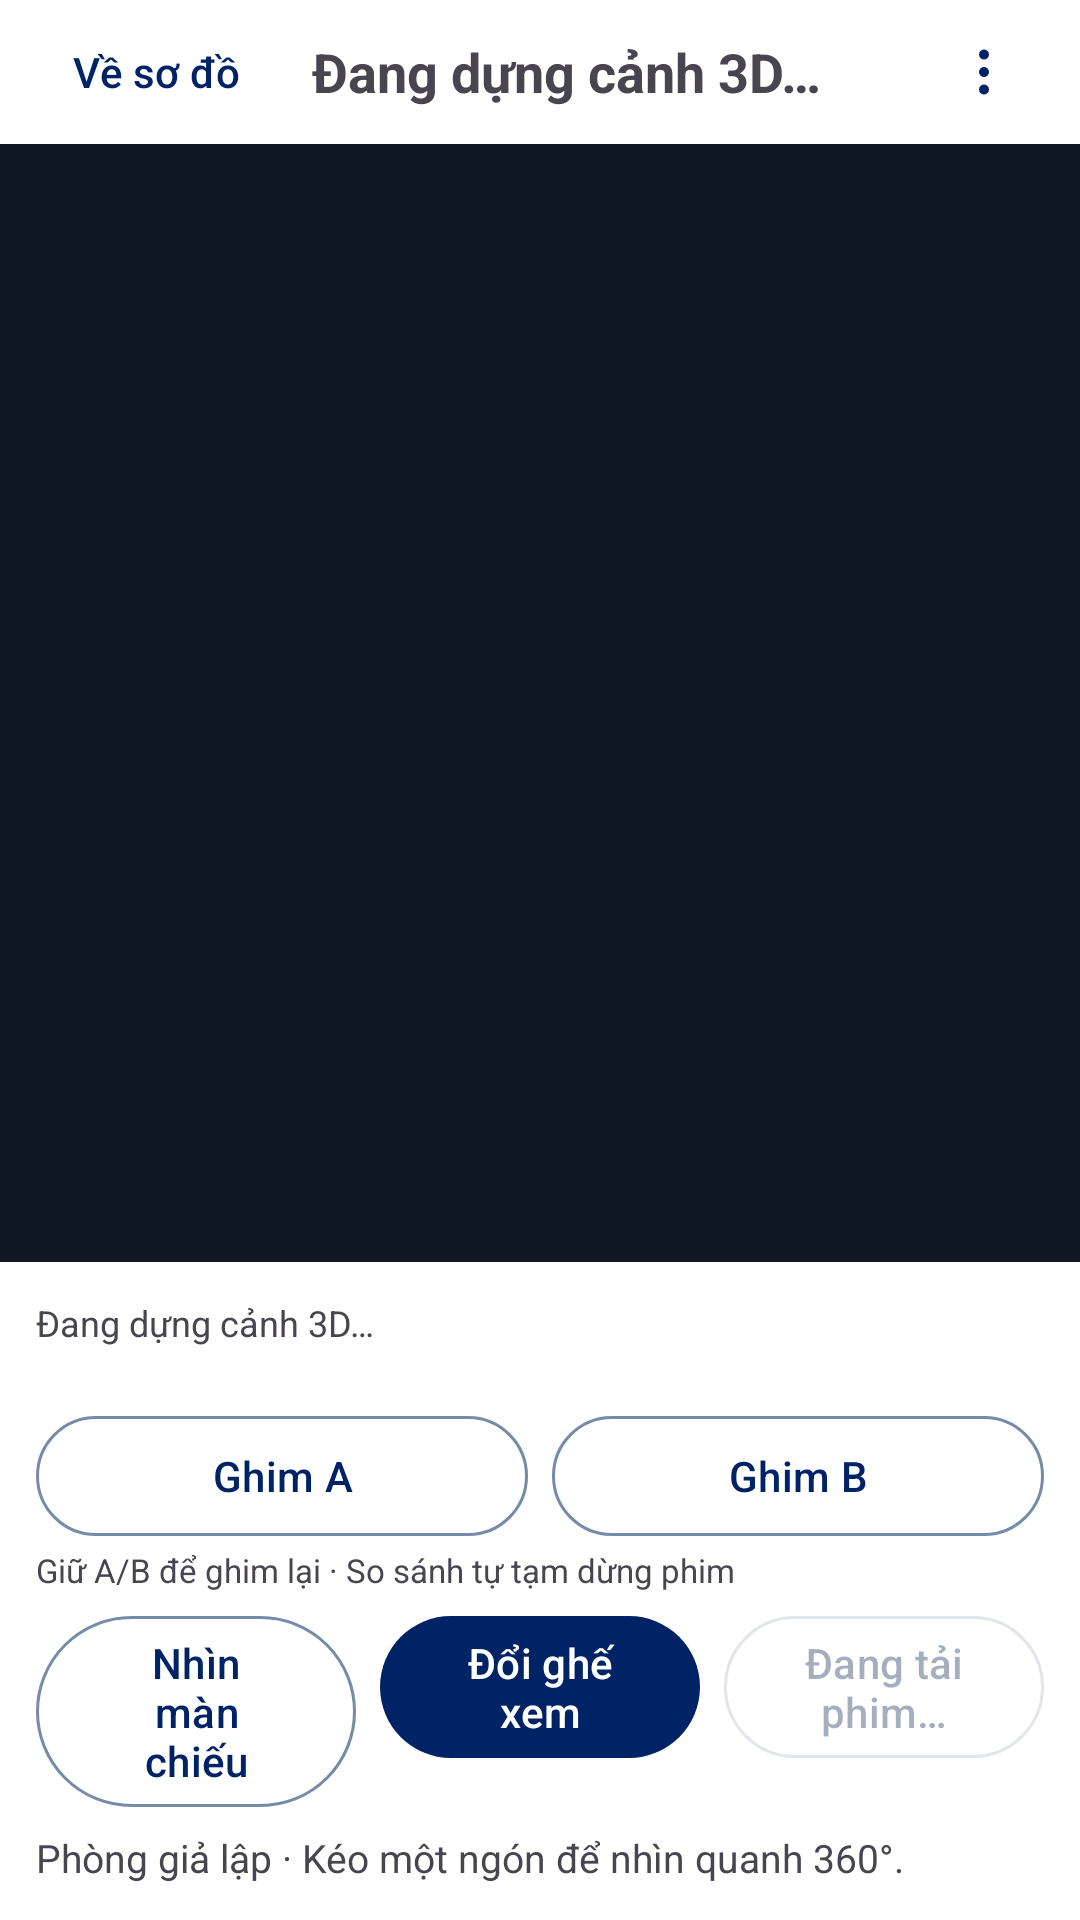

Point at icon controls on the screen. Image size 1080w x 1920h, points as [x,y].
Tuỳ chọn 3D: [984,72]
